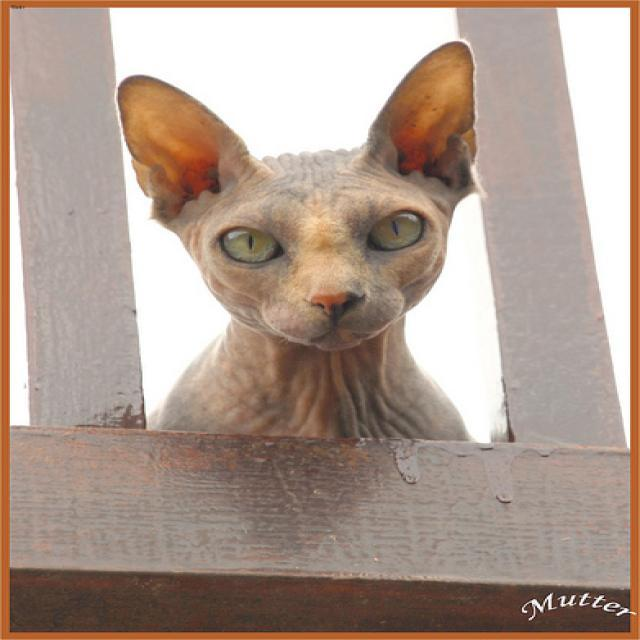Sphynx: (105, 40, 487, 356)
